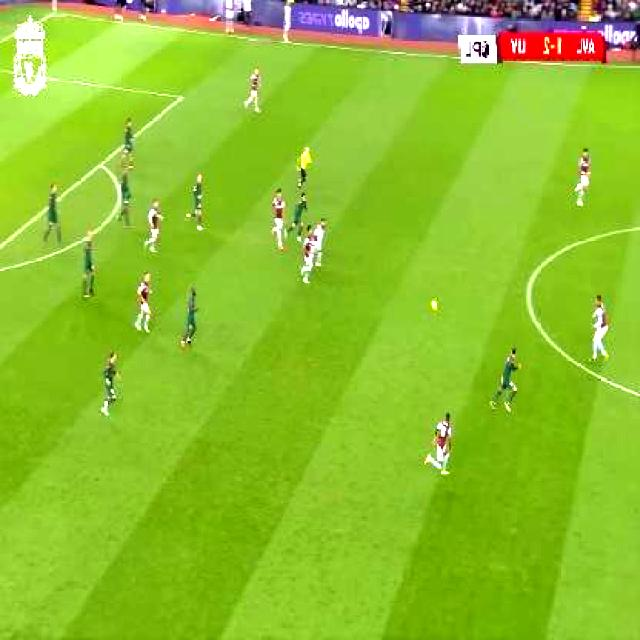bigarea_top_inner: (174, 86, 191, 106)
corner: (46, 3, 68, 20)
top_arc_area_intersection: (94, 152, 111, 174)
